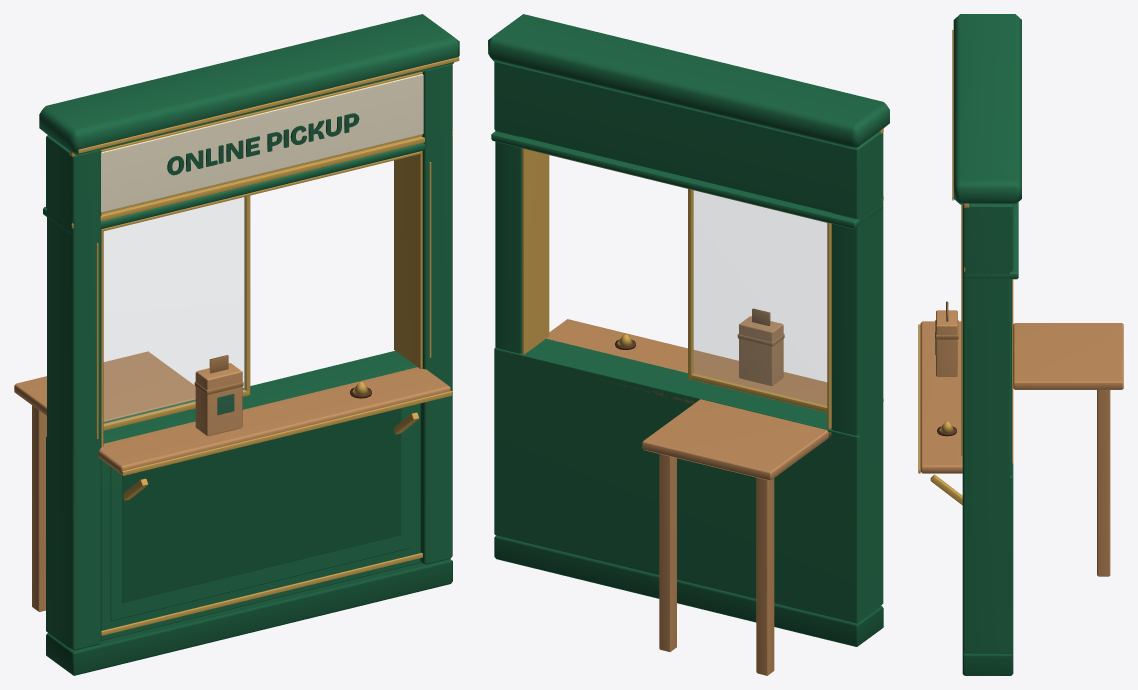
Rendered from pickup_window.glb.
The picture shows the model from 3 angles, left to right: view 1: azimuth 30°, elevation 25°; view 2: azimuth 150°, elevation 25°; view 3: azimuth 270°, elevation 25°; orthographic projection. The views are drawn at different scales.
Visible parts, largest first — view 1: KickInset, Pilaster-1, Pane, Cap, SignPanel, Pilaster1, KickWall, Plinth, Ledge, KickPanel, Bead0.75, InnerShelf (+12 smaller); view 2: KickWall, SignBand, Pane, Cap, Pilaster-1, InnerShelf, Plinth, Ledge, Pilaster1, Bead0.75, Header, ShelfLeg-0.68 (+5 smaller); view 3: Pilaster1, Cap, InnerShelf, KickWall, Ledge, ShelfLeg-0.20, SignBand, LedgeBag, Plinth, Header, LedgeEdge, Bead0.75 (+3 smaller).
Part boxes in pixels (<box>): KickInset: <box>122,408,401,602</box>; Pilaster-1: <box>47,139,101,650</box>; Pane: <box>104,197,245,424</box>; Cap: <box>39,14,459,155</box>; SignPanel: <box>101,74,423,212</box>; Pilaster1: <box>420,64,452,565</box>; KickWall: <box>46,351,421,648</box>; Plinth: <box>46,559,452,675</box>; Ledge: <box>98,367,450,474</box>; KickPanel: <box>110,406,410,621</box>; Bead0.75: <box>394,151,422,369</box>; InnerShelf: <box>14,351,195,421</box>; KickWall: <box>494,338,880,623</box>; SignBand: <box>494,62,880,218</box>; Pane: <box>692,190,826,406</box>; Cap: <box>488,14,889,149</box>; Pilaster-1: <box>831,132,883,620</box>; InnerShelf: <box>642,399,828,480</box>; Plinth: <box>494,536,883,646</box>; Ledge: <box>546,319,831,437</box>; Pilaster1: <box>495,131,521,353</box>; Bead0.75: <box>522,148,549,354</box>; Header: <box>491,131,883,228</box>; ShelfLeg-0.68: <box>756,477,774,675</box>; Pilaster1: <box>962,204,1011,653</box>; Cap: <box>953,14,1021,204</box>; InnerShelf: <box>1013,323,1123,389</box>; KickWall: <box>970,463,1013,653</box>; Ledge: <box>920,321,962,473</box>; ShelfLeg-0.20: <box>1097,390,1110,576</box>; SignBand: <box>970,204,1013,271</box>; LedgeBag: <box>936,310,957,376</box>; Plinth: <box>962,651,1013,675</box>; Header: <box>965,202,1018,279</box>; LedgeEdge: <box>918,324,920,473</box>; Bead0.75: <box>1012,279,1013,463</box>.
Size of the model in its own units: 1.84 by 2.48 by 0.93.
